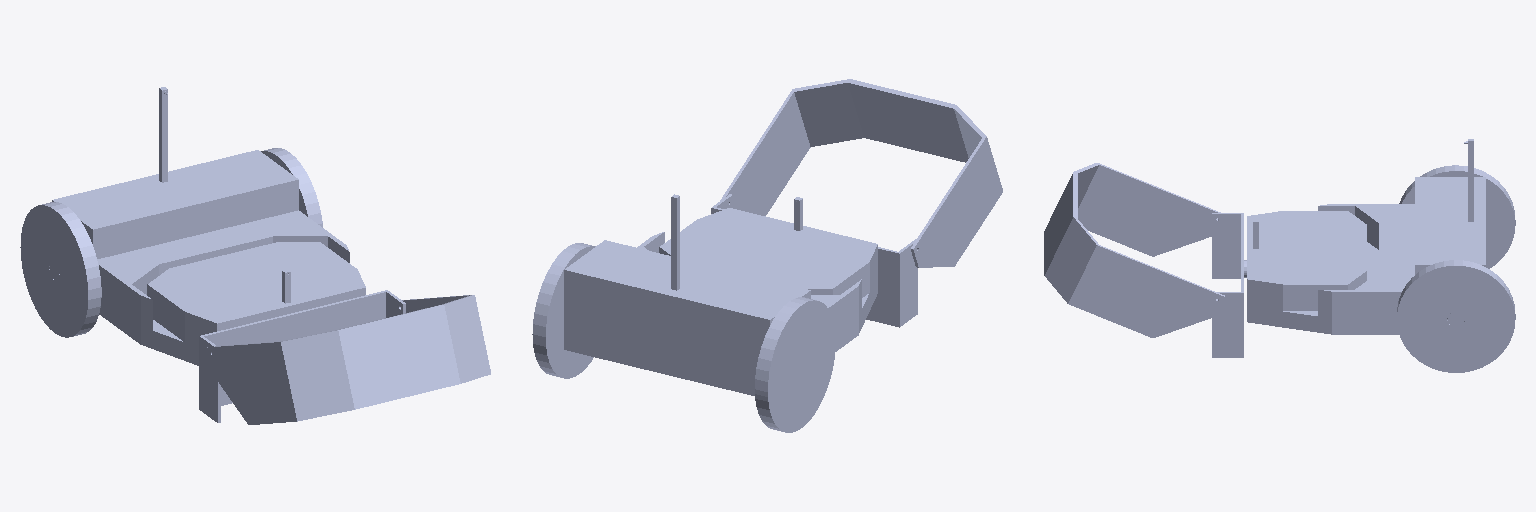
The robot description file, URDF, robot "robot_17":
<?xml version="1.0" encoding="utf-8"?>
<!-- This URDF was automatically created by SolidWorks to URDF Exporter! Originally created by [author] ([email redacted]) 
     Commit Version: 1.6.0-1-g15f4949  Build Version: 1.6.7594.29634
     For more information, please see http://wiki.ros.org/sw_urdf_exporter -->
<robot
  name="robot_17">
  <link
    name="base_link">
    <inertial>
      <origin
        xyz="-1.8421E-17 0.047887 -0.026797"
        rpy="0 0 0" />
      <mass
        value="5" />
      <inertia
        ixx="0.19581"
        ixy="1.7576E-18"
        ixz="2.8453E-17"
        iyy="0.29669"
        iyz="0.020407"
        izz="0.13262" />
    </inertial>
    <visual>
      <origin
        xyz="0 0 0"
        rpy="0 0 0" />
      <geometry>
        <mesh
          filename="package://robot_17/meshes/base_link.STL" />
      </geometry>
      <material
        name="">
        <color
          rgba="0.79216 0.81961 0.93333 1" />
      </material>
    </visual>
    <collision>
      <origin
        xyz="0 0 0"
        rpy="0 0 0" />
      <geometry>
        <mesh
          filename="package://robot_17/meshes/base_link.STL" />
      </geometry>
    </collision>
  </link>
  <link
    name="L_link">
    <inertial>
      <origin
        xyz="0 0 0.01125"
        rpy="0 0 0" />
      <mass
        value="0.69095" />
      <inertia
        ixx="0.0017954"
        ixy="2.9845E-33"
        ixz="-1.0164E-20"
        iyy="0.0017954"
        iyz="-5.0572E-22"
        izz="0.0035325" />
    </inertial>
    <visual>
      <origin
        xyz="0 0 0"
        rpy="0 0 0" />
      <geometry>
        <mesh
          filename="package://robot_17/meshes/L_link.STL" />
      </geometry>
      <material
        name="">
        <color
          rgba="0.79216 0.81961 0.93333 1" />
      </material>
    </visual>
    <collision>
      <origin
        xyz="0 0 0"
        rpy="0 0 0" />
      <geometry>
        <mesh
          filename="package://robot_17/meshes/L_link.STL" />
      </geometry>
    </collision>
  </link>
  <joint
    name="L_joint"
    type="continuous">
    <origin
      xyz="0.1775 0.15093 0.04"
      rpy="-1.5708 0 -1.5708" />
    <parent
      link="base_link" />
    <child
      link="L_link" />
    <axis
      xyz="0 0 1" />
  </joint>
  <link
    name="R_link">
    <inertial>
      <origin
        xyz="0 0 0.01125"
        rpy="0 0 0" />
      <mass
        value="0.69095" />
      <inertia
        ixx="0.0017954"
        ixy="-1.3553E-20"
        ixz="-3.3154E-19"
        iyy="0.0017954"
        iyz="2.7118E-20"
        izz="0.0035325" />
    </inertial>
    <visual>
      <origin
        xyz="0 0 0"
        rpy="0 0 0" />
      <geometry>
        <mesh
          filename="package://robot_17/meshes/R_link.STL" />
      </geometry>
      <material
        name="">
        <color
          rgba="0.79216 0.81961 0.93333 1" />
      </material>
    </visual>
    <collision>
      <origin
        xyz="0 0 0"
        rpy="0 0 0" />
      <geometry>
        <mesh
          filename="package://robot_17/meshes/R_link.STL" />
      </geometry>
    </collision>
  </link>
  <joint
    name="R_joint"
    type="continuous">
    <origin
      xyz="-0.1775 0.15093 0.04"
      rpy="-1.5708 0.095053 1.5708" />
    <parent
      link="base_link" />
    <child
      link="R_link" />
    <axis
      xyz="0 0 1" />
  </joint>
  <link
    name="Gripper_link">
    <inertial>
      <origin
        xyz="0.0016471 0.155 -0.062648"
        rpy="0 0 0" />
      <mass
        value="0.27654" />
      <inertia
        ixx="0.003447"
        ixy="-4.3916E-19"
        ixz="-1.8299E-05"
        iyy="0.00038921"
        iyz="6.4802E-19"
        izz="0.003189" />
    </inertial>
    <visual>
      <origin
        xyz="0 0 0"
        rpy="0 0 0" />
      <geometry>
        <mesh
          filename="package://robot_17/meshes/Gripper_link.STL" />
      </geometry>
      <material
        name="">
        <color
          rgba="0.79216 0.81961 0.93333 1" />
      </material>
    </visual>
    <collision>
      <origin
        xyz="0 0 0"
        rpy="0 0 0" />
      <geometry>
        <mesh
          filename="package://robot_17/meshes/Gripper_link.STL" />
      </geometry>
    </collision>
  </link>
  <joint
    name="Gripper_joint"
    type="fixed">
    <origin
      xyz="0.155 -0.21093 -0.05"
      rpy="3.1416 0 -1.5708" />
    <parent
      link="base_link" />
    <child
      link="Gripper_link" />
    <axis
      xyz="0 0 0" />
  </joint>
  <link
    name="S_link">
    <inertial>
      <origin
        xyz="0.155 0.19524 -0.048102"
        rpy="0 0 0" />
      <mass
        value="0.55679" />
      <inertia
        ixx="0.0043155"
        ixy="-2.4988E-19"
        ixz="1.1244E-18"
        iyy="0.0099472"
        iyz="0.00018287"
        izz="0.012948" />
    </inertial>
    <visual>
      <origin
        xyz="0 0 0"
        rpy="0 0 0" />
      <geometry>
        <mesh
          filename="package://robot_17/meshes/S_link.STL" />
      </geometry>
      <material
        name="">
        <color
          rgba="0.79216 0.81961 0.93333 1" />
      </material>
    </visual>
    <collision>
      <origin
        xyz="0 0 0"
        rpy="0 0 0" />
      <geometry>
        <mesh
          filename="package://robot_17/meshes/S_link.STL" />
      </geometry>
    </collision>
  </link>
  <joint
    name="Slider_joint"
    type="revolute">
    <origin
      xyz="0.04 0 -0.11"
      rpy="-0.97212 0 1.5708" />
    <parent
      link="Gripper_link" />
    <child
      link="S_link" />
    <axis
      xyz="1 0 0" />
    <limit
      lower="-3"
      upper="-0.5"
      effort="1000"
      velocity="0.5" />
  </joint>
  <link
    name="C_Link">
    <inertial>
      <origin
        xyz="0.005 -0.0050347 0.075342"
        rpy="0 0 0" />
      <mass
        value="0.015074" />
      <inertia
        ixx="2.8613E-05"
        ixy="4.1046E-24"
        ixz="-1.0348E-21"
        iyy="2.8609E-05"
        iyz="3.6416E-08"
        izz="2.5395E-07" />
    </inertial>
    <visual>
      <origin
        xyz="0 0 0"
        rpy="0 0 0" />
      <geometry>
        <mesh
          filename="package://robot_17/meshes/C_Link.STL" />
      </geometry>
      <material
        name="">
        <color
          rgba="0.79216 0.81961 0.93333 1" />
      </material>
    </visual>
    <collision>
      <origin
        xyz="0 0 0"
        rpy="0 0 0" />
      <geometry>
        <mesh
          filename="package://robot_17/meshes/C_Link.STL" />
      </geometry>
    </collision>
  </link>
  <joint
    name="C_joint"
    type="fixed">
    <origin
      xyz="-0.00500000000000001 0.18093 0.13"
      rpy="0 0 0" />
    <parent
      link="base_link" />
    <child
      link="C_Link" />
    <axis
      xyz="0 0 0" />
  </joint>
  <link
    name="laser_link">
    <inertial>
      <origin
        xyz="0.005 -0.005 0.024861"
        rpy="0 0 0" />
      <mass
        value="0.0049686" />
      <inertia
        ixx="1.0678E-06"
        ixy="8.8775E-24"
        ixz="-5.7315E-24"
        iyy="1.068E-06"
        iyz="-1.1453E-24"
        izz="8.3064E-08" />
    </inertial>
    <visual>
      <origin
        xyz="0 0 0"
        rpy="0 0 0" />
      <geometry>
        <mesh
          filename="package://robot_17/meshes/laser_link.STL" />
      </geometry>
      <material
        name="">
        <color
          rgba="0.79216 0.81961 0.93333 1" />
      </material>
    </visual>
    <collision>
      <origin
        xyz="0 0 0"
        rpy="0 0 0" />
      <geometry>
        <mesh
          filename="package://robot_17/meshes/laser_link.STL" />
      </geometry>
    </collision>
  </link>
  <joint
    name="laser_joint"
    type="fixed">
    <origin
      xyz="0.005 -0.19093 0.08"
      rpy="0 0 3.1416" />
    <parent
      link="base_link" />
    <child
      link="laser_link" />
    <axis
      xyz="0 0 0" />
  </joint>
</robot>

--- What the picture shows (computed from the rendered views, not written in the file) ---
The picture shows the robot from 3 angles, left to right: view 1: azimuth 30°, elevation 25°; view 2: azimuth 150°, elevation 25°; view 3: azimuth 270°, elevation 25°; orthographic projection.
Model robot_17 with 7 links and 6 joints (1 revolute, 2 continuous, 3 fixed), rooted at base_link, posed joints at zero except 1 at the middle of their limits (Slider_joint = -1.75).
Visible links, largest first — view 1: base_link, S_link, R_link, Gripper_link, L_link, C_Link; view 2: base_link, S_link, R_link, L_link, Gripper_link, C_Link; view 3: base_link, S_link, L_link, Gripper_link, R_link.
Boxes of the visible links, x1=… form: base_link: x1=49, y1=150, x2=365, y2=365; S_link: x1=207, y1=295, x2=490, y2=424; R_link: x1=20, y1=202, x2=101, y2=337; Gripper_link: x1=199, y1=290, x2=405, y2=422; L_link: x1=261, y1=148, x2=322, y2=227; C_Link: x1=159, y1=87, x2=167, y2=182; base_link: x1=564, y1=208, x2=877, y2=395; S_link: x1=720, y1=79, x2=1002, y2=267; R_link: x1=755, y1=297, x2=835, y2=432; L_link: x1=532, y1=243, x2=595, y2=378; Gripper_link: x1=711, y1=194, x2=917, y2=327; C_Link: x1=671, y1=194, x2=679, y2=290; base_link: x1=1247, y1=177, x2=1485, y2=334; S_link: x1=1044, y1=163, x2=1224, y2=337; L_link: x1=1397, y1=260, x2=1515, y2=372; Gripper_link: x1=1212, y1=213, x2=1246, y2=357; R_link: x1=1399, y1=165, x2=1515, y2=268.
Bounding box of the posed robot: 0.4 × 0.7935 × 0.3399 m (x, y, z).
Meshes: 7 distinct files referenced, 7 mesh visuals loaded (7 binary STL).